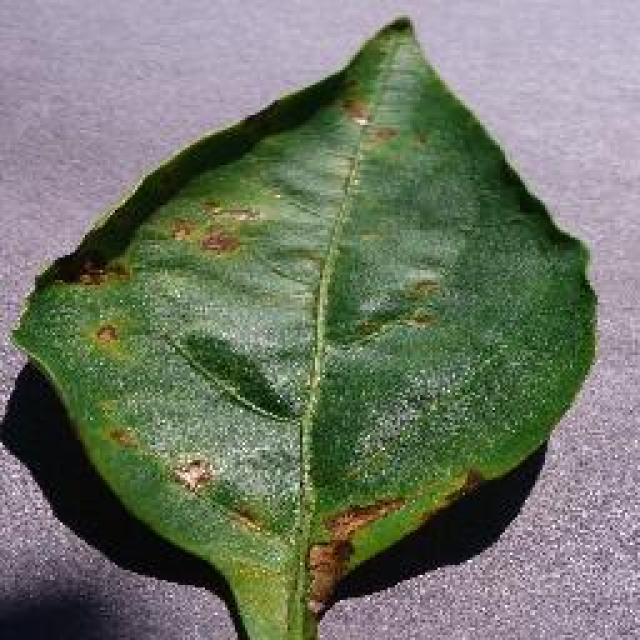Chilli_Bacterial_Spot: (8, 12, 602, 638), (300, 492, 408, 620), (343, 270, 445, 350), (163, 192, 265, 262), (300, 535, 352, 620), (335, 90, 403, 150), (68, 252, 132, 290), (82, 312, 130, 358), (198, 195, 262, 227), (167, 453, 215, 495), (195, 225, 243, 257), (223, 502, 265, 538), (100, 420, 140, 455), (400, 273, 440, 305), (398, 302, 438, 332), (90, 320, 122, 350), (165, 213, 195, 245)
